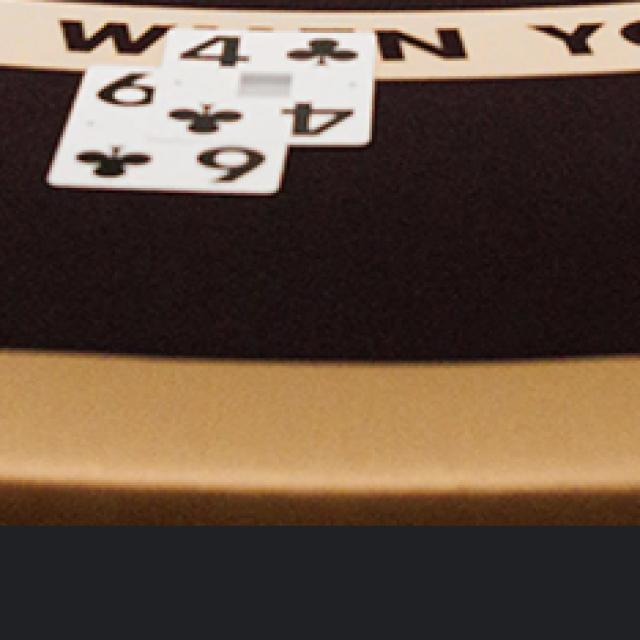Card-4: (153, 26, 374, 142)
Card-6: (48, 62, 285, 192)
